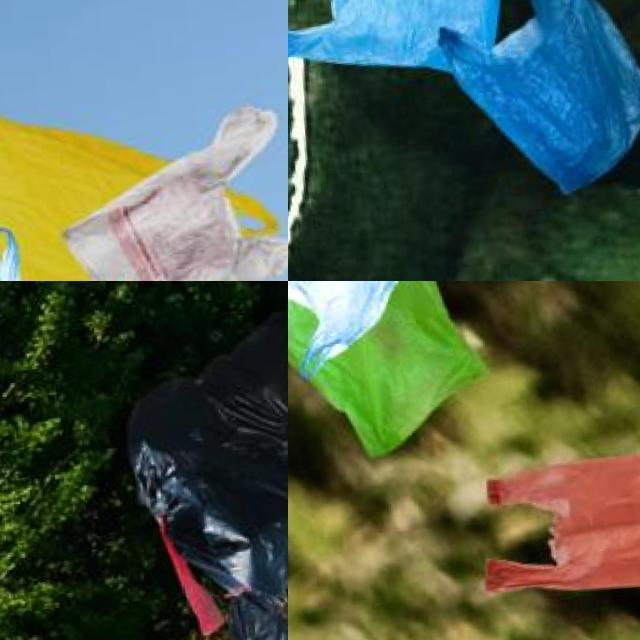waste: (0, 57, 288, 281), (116, 281, 288, 531), (48, 106, 288, 281), (432, 0, 640, 192), (288, 281, 493, 461), (474, 442, 640, 595), (288, 281, 435, 412), (288, 0, 522, 80), (221, 590, 288, 640)
